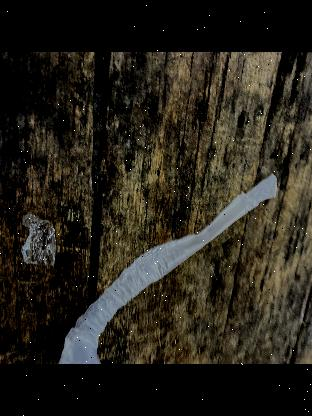Others: (59, 172, 277, 364), (24, 215, 55, 267)
